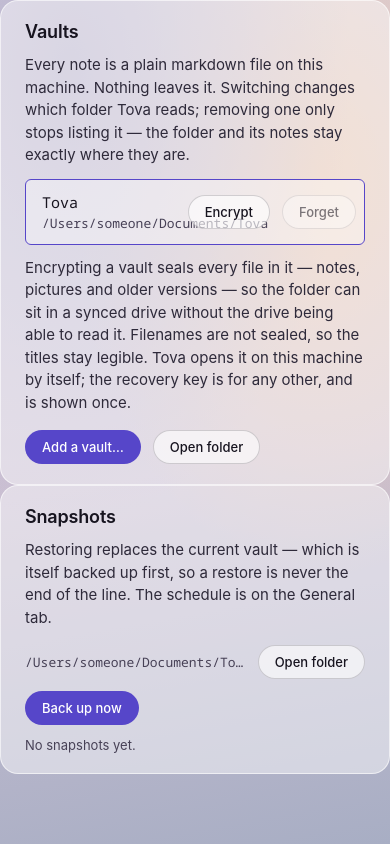
Scenario: encrypting a vault › asks first, naming the folder it is about to seal
The image size is (390, 844).
Step 1. Click the button with aria-label "Encrypt Tova" → (229, 212), box 188,194 -> 270,228
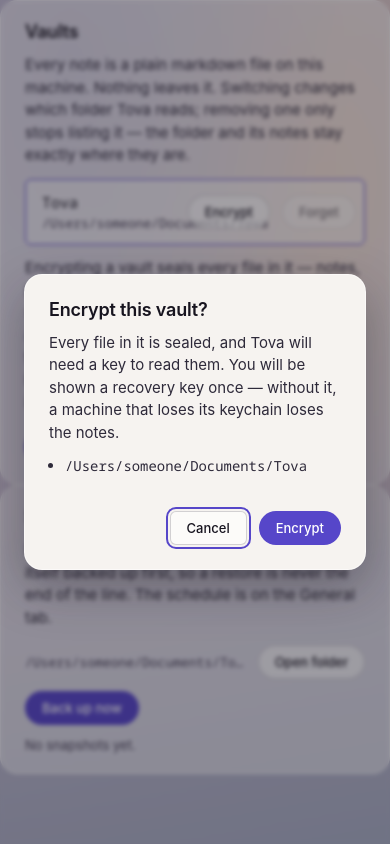
expect the list item "/Users/someone/Documents/Tova" is shown: met, box 65,456 -> 341,475
